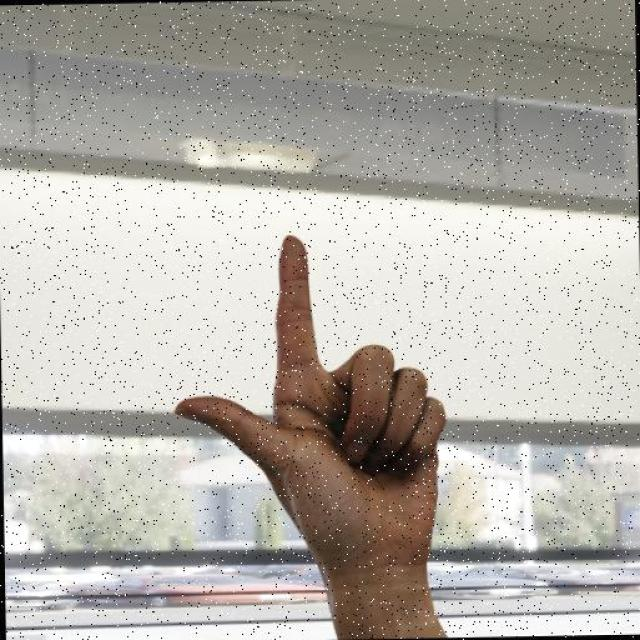L: (165, 229, 450, 569)
